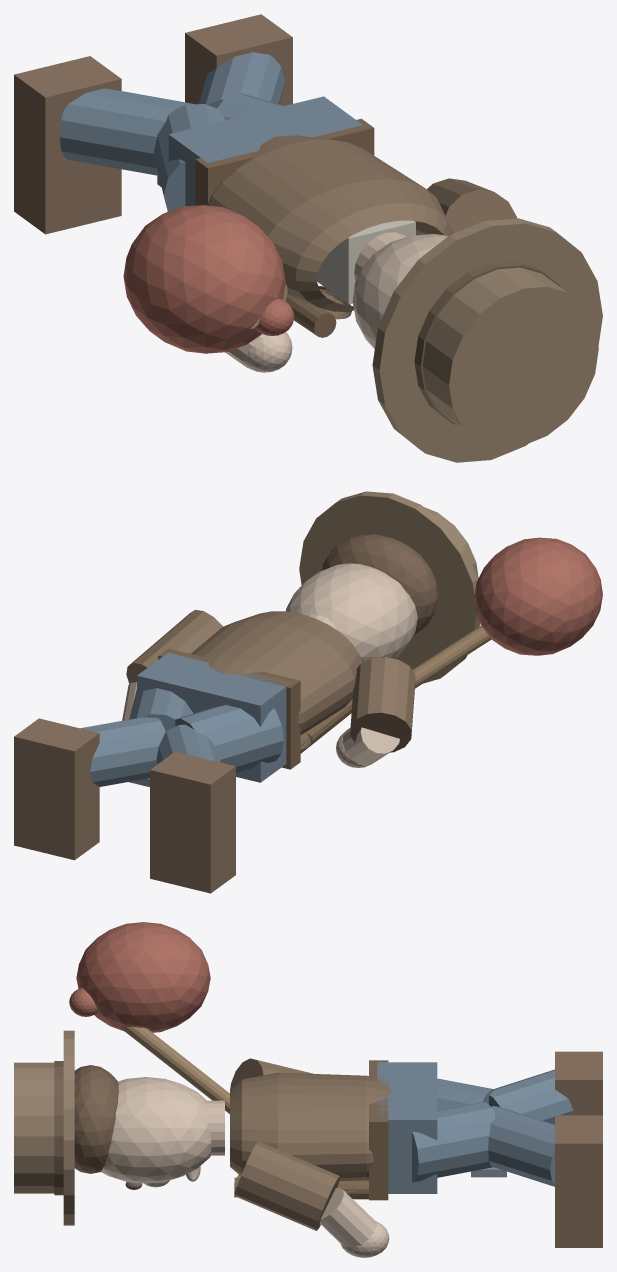
File: George_walk_01.glb
The picture shows the model from 3 angles, top to bottom: view 1: azimuth 30°, elevation 25°; view 2: azimuth 150°, elevation 25°; view 3: azimuth 270°, elevation 25°; orthographic projection. The views are drawn at different scales.
Parts seen in each view (by area): view 1: hat_crown, worn_cream_work_shirt, tied_cloth_bindle, weathered_felt_hat_brim, work_boot_-1, denim_calf_-1, faded_blue_denim_waist, work_boot_1, fair_skin_face, denim_calf_1, rolled_shirt_sleeve_1, denim_thigh_-1 (+7 smaller); view 2: tied_cloth_bindle, weathered_felt_hat_brim, work_boot_-1, worn_cream_work_shirt, work_boot_1, fair_skin_face, faded_blue_denim_waist, rolled_shirt_sleeve_-1, short_brown_hair, denim_thigh_-1, denim_calf_1, rolled_shirt_sleeve_1 (+6 smaller); view 3: worn_cream_work_shirt, tied_cloth_bindle, fair_skin_face, work_boot_1, faded_blue_denim_waist, rolled_shirt_sleeve_1, hat_crown, denim_thigh_1, short_brown_hair, denim_calf_1, work_boot_-1, denim_calf_-1 (+11 smaller).
Boxes of the visible parts, box(x1,y1,x2,y2) form: hat_crown: box(422, 267, 598, 447); worn_cream_work_shirt: box(207, 135, 452, 319); tied_cloth_bindle: box(123, 205, 285, 353); weathered_felt_hat_brim: box(372, 218, 602, 462); work_boot_-1: box(14, 56, 121, 234); denim_calf_-1: box(59, 88, 194, 175); faded_blue_denim_waist: box(168, 96, 362, 206); work_boot_1: box(185, 14, 292, 105); fair_skin_face: box(352, 234, 447, 348); denim_calf_1: box(198, 52, 284, 108); rolled_shirt_sleeve_1: box(415, 178, 516, 235); denim_thigh_-1: box(153, 104, 225, 211); tied_cloth_bindle: box(474, 537, 602, 655); weathered_felt_hat_brim: box(299, 491, 479, 683); work_boot_-1: box(150, 751, 235, 893); worn_cream_work_shirt: box(191, 611, 362, 749); work_boot_1: box(14, 718, 99, 860); fair_skin_face: box(286, 563, 417, 662); faded_blue_denim_waist: box(137, 652, 290, 782); rolled_shirt_sleeve_-1: box(350, 657, 415, 752); short_brown_hair: box(322, 534, 438, 634); denim_thigh_-1: box(175, 705, 283, 772); denim_calf_1: box(81, 717, 165, 786); rolled_shirt_sleeve_1: box(126, 609, 222, 683); worn_cream_work_shirt: box(230, 1072, 392, 1192); tied_cloth_bindle: box(76, 922, 210, 1032); fair_skin_face: box(101, 1077, 211, 1183); work_boot_1: box(555, 1115, 602, 1247); faded_blue_denim_waist: box(377, 1062, 437, 1193); rolled_shirt_sleeve_1: box(235, 1141, 339, 1230); hat_crown: box(14, 1062, 54, 1193); denim_thigh_1: box(412, 1102, 495, 1182); short_brown_hair: box(74, 1065, 118, 1173); denim_calf_1: box(488, 1106, 554, 1186); work_boot_-1: box(555, 1051, 602, 1115); denim_calf_-1: box(489, 1069, 573, 1124).
Bounding box in the file's own units: 1.72 × 0.93 × 2.46.
